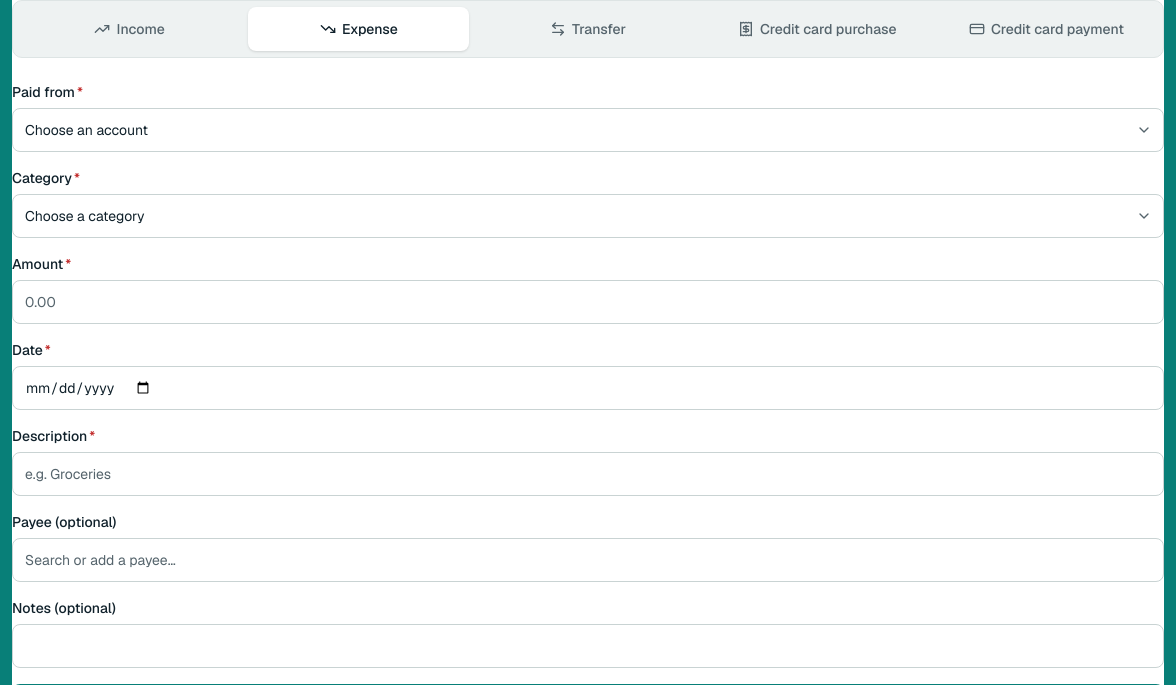
Scenario: NewTransactionForm › switches to the credit card purchase form, passing only credit card accounts
Click the radio button labelled "Credit card purchase" at (817,29), box [707,7,928,51]
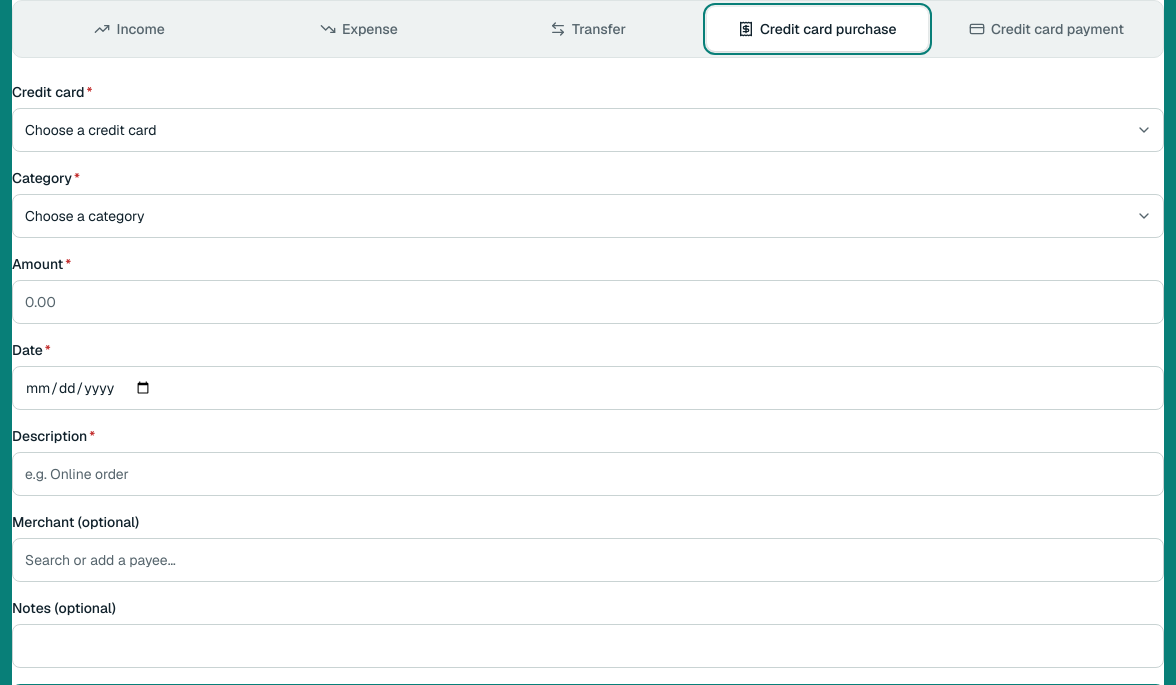
Expected: the dropdown labelled "Credit card" is shown, [12,108,1164,152]
